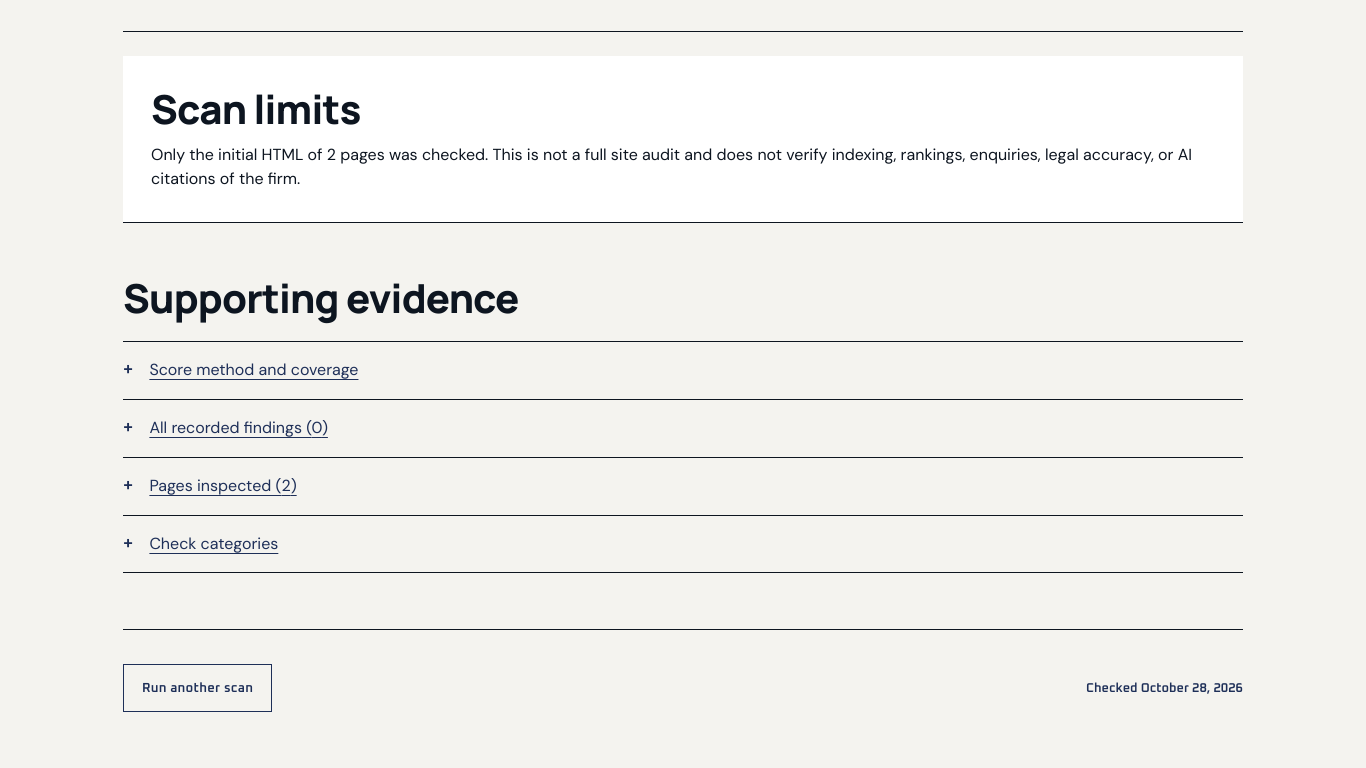
SeoReport score scope › does not turn missing historical robot fields into a definite absence
The width and height of the screenshot is (1366, 768).
(page scrolled)
Click the heading "Pages inspected (2)": (223, 485) x1=149 y1=475 x2=297 y2=496
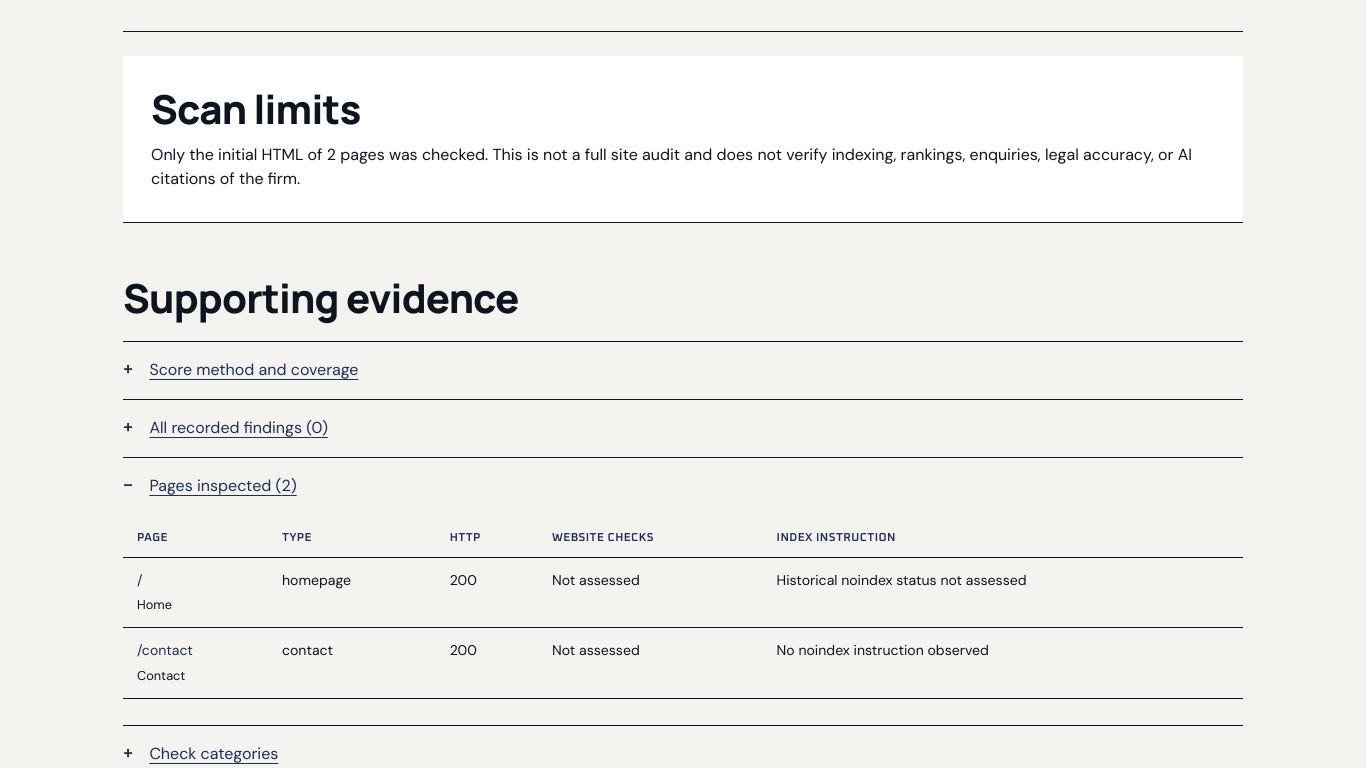
Result: the text "Historical noindex status not assessed" is shown at x1=763 y1=557 x2=1243 y2=628
Result: the text "No noindex instruction observed" is shown at x1=763 y1=628 x2=1243 y2=698
